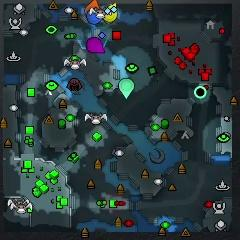p1: (87, 10, 103, 24)
p2: (120, 78, 133, 99)
p2Clone: (195, 86, 207, 98)
p3: (86, 37, 104, 53)
p4: (103, 3, 117, 22)
p5: (85, 0, 100, 15)
